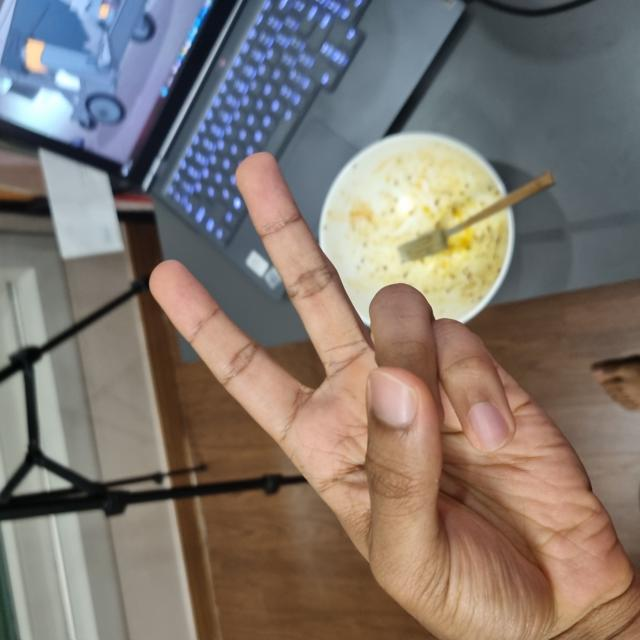Scissors: (171, 153, 485, 529)
